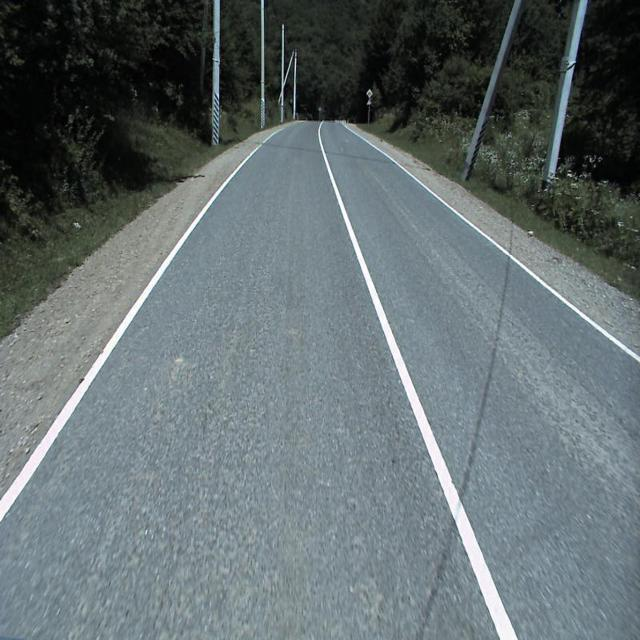road: (0, 121, 640, 639)
